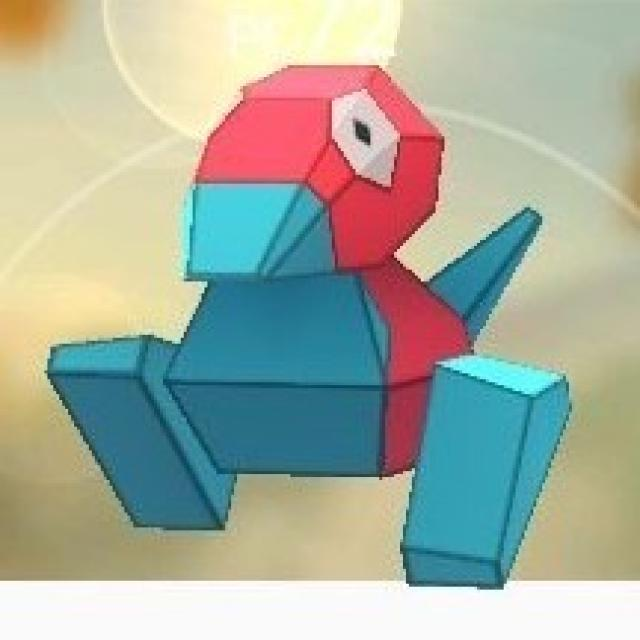Porygon: (75, 62, 552, 517)
